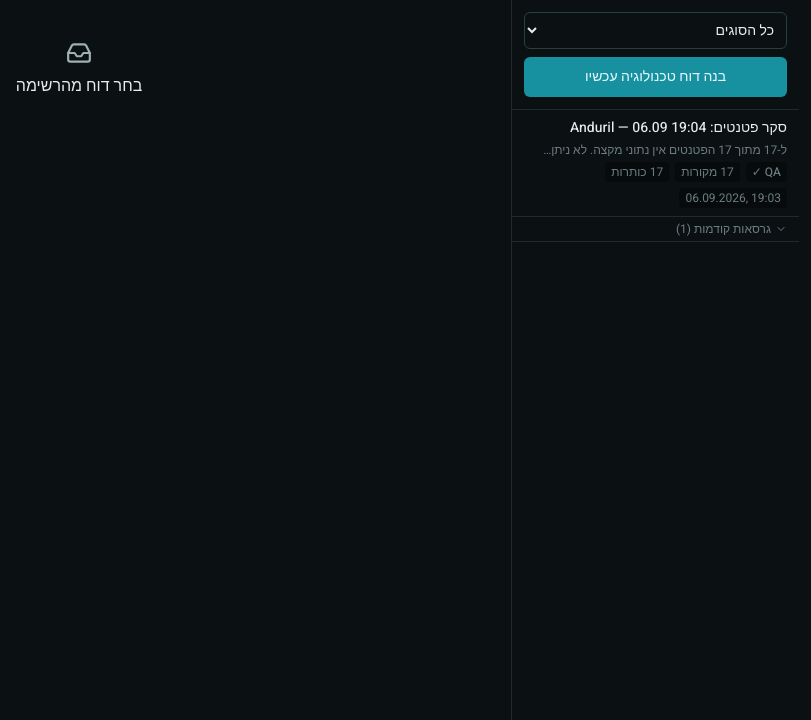
Test: ReportsPage version grouping (W14 point 3) › shows only the latest row per group by default, with an expander for older versions
The width and height of the screenshot is (811, 720).
Expected: the text "סקר פטנטים: Anduril — 06.09 19:04" is shown, [570,118,787,138]
Expected: the text "סקר פטנטים: Anduril — 06.09 17:33" is not shown
Click the button "גרסאות קודמות (1)" at (729,229), box [512,217,799,242]
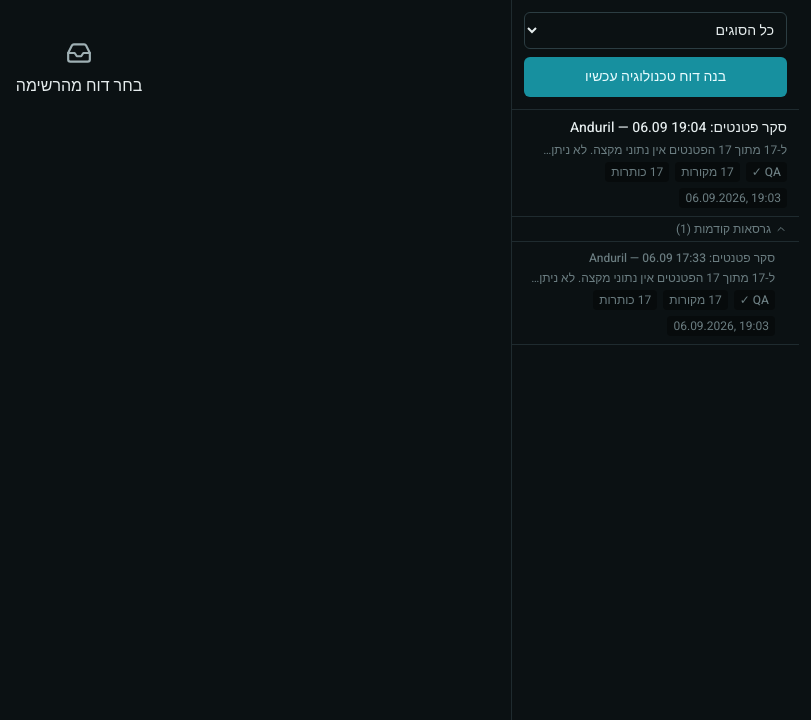
Now the button "גרסאות קודמות (1)" is expanded
Now the text "סקר פטנטים: Anduril — 06.09 17:33" is shown, box [589,250,775,266]
Click the button "גרסאות קודמות (1)" at (729,229), box [512,217,799,242]
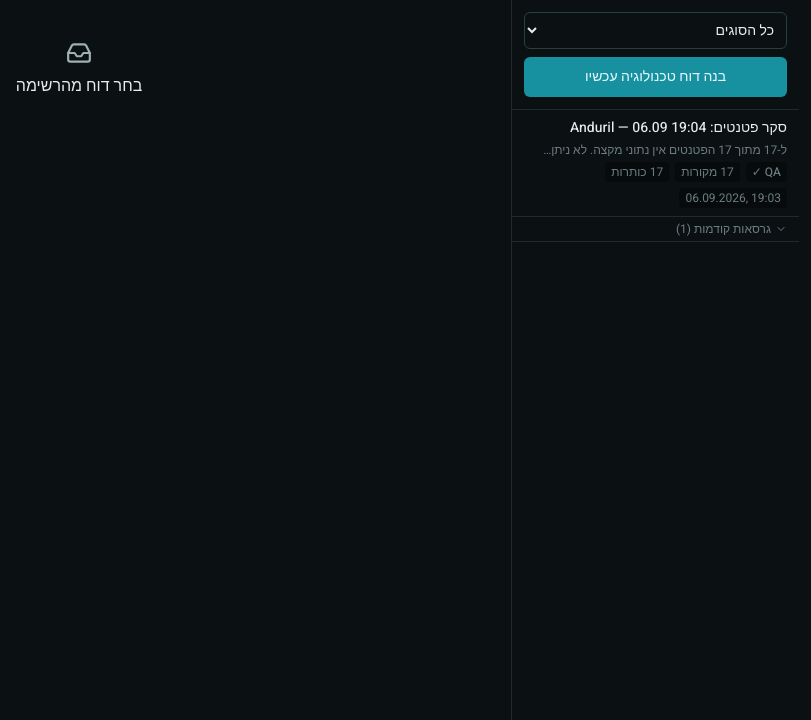
Now the button "סקר פטנטים: Anduril — 06.09 17:33" is gone
